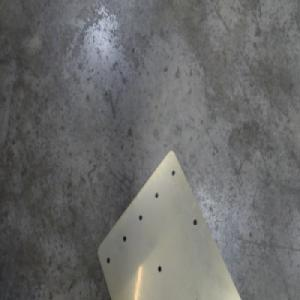MetalSheet: (96, 145, 247, 300)
